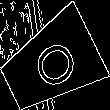O_SW: (22, 33, 79, 95)
